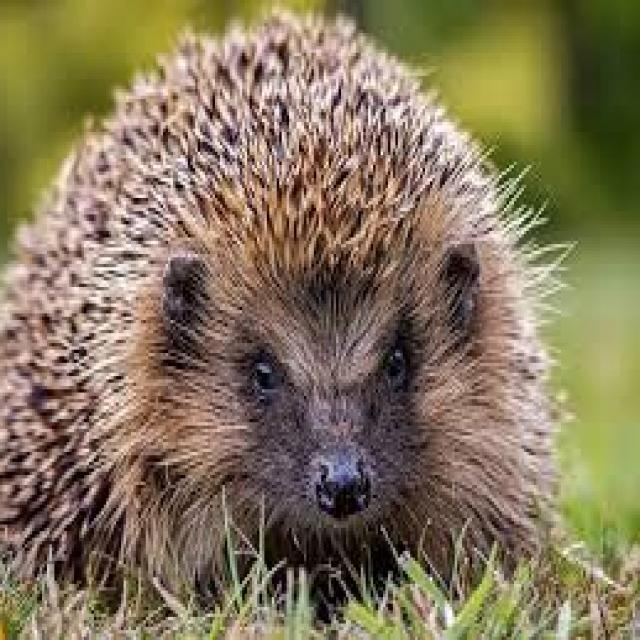hedgehog: (2, 13, 554, 574)
